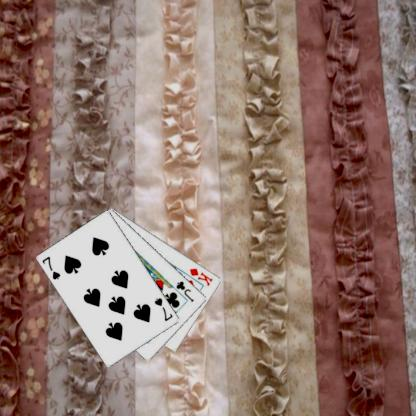7S: (39, 254, 62, 281), (152, 295, 174, 323)
JC: (173, 279, 196, 303)
KD: (187, 266, 214, 287)
